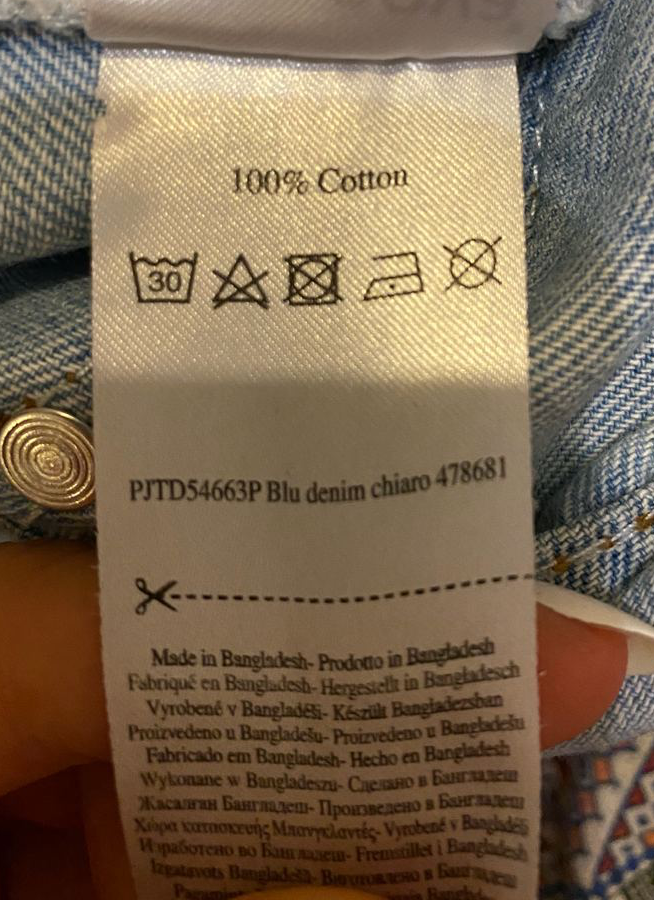do_not_bleach: (208, 248, 275, 312)
do_not_dry_clean: (437, 229, 509, 296)
do_not_tumble_drying: (278, 250, 347, 312)
ironing_at_low_temp: (358, 244, 430, 304)
wash_at_or_below_30: (127, 247, 202, 307)
